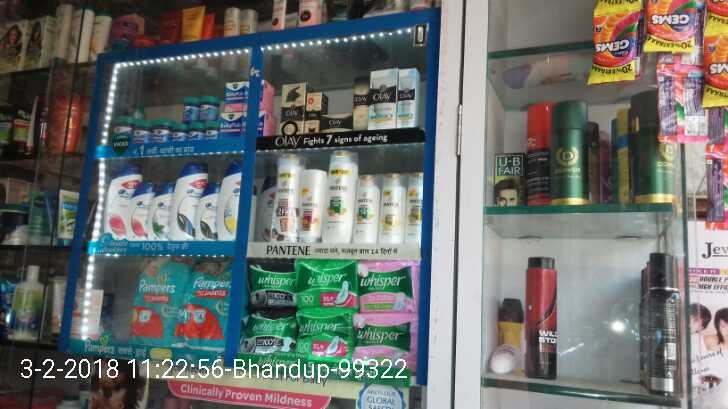beauty: (168, 154, 204, 243), (265, 155, 298, 243), (321, 150, 350, 247), (101, 164, 137, 237), (371, 172, 403, 250), (365, 65, 399, 135), (293, 169, 325, 242), (218, 158, 240, 243), (277, 80, 307, 136), (349, 179, 374, 246), (148, 185, 178, 235), (404, 174, 424, 247), (132, 178, 154, 240), (196, 190, 222, 237), (314, 110, 348, 136), (396, 69, 409, 126)
pharmacy: (119, 262, 187, 353), (182, 261, 232, 357), (350, 307, 413, 371), (291, 256, 355, 311), (298, 307, 347, 360), (360, 265, 413, 313), (248, 263, 296, 311), (247, 315, 286, 360), (224, 81, 246, 132), (197, 91, 220, 120), (176, 95, 196, 125), (114, 120, 132, 144), (133, 121, 151, 143), (153, 121, 169, 143)
